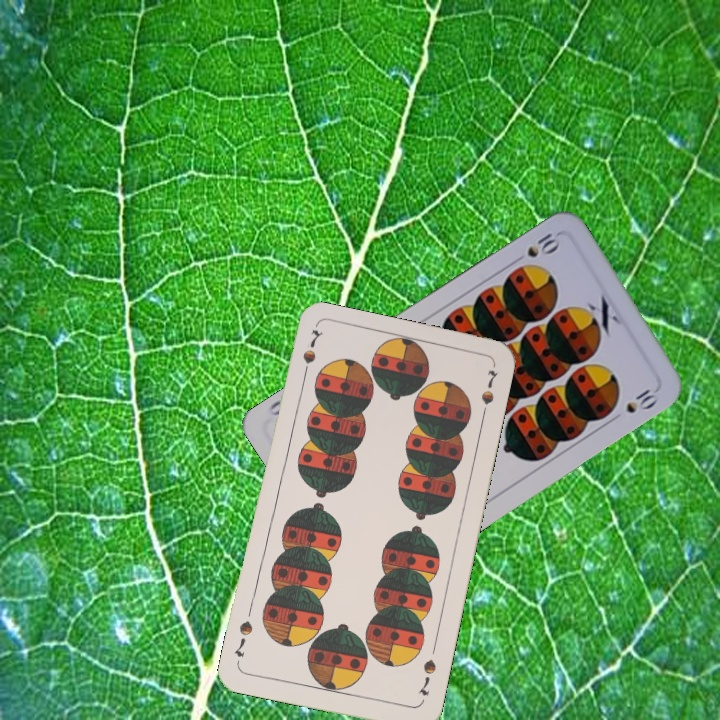S10: (508, 228, 563, 267)
S7: (298, 325, 324, 384), (414, 655, 439, 699)
